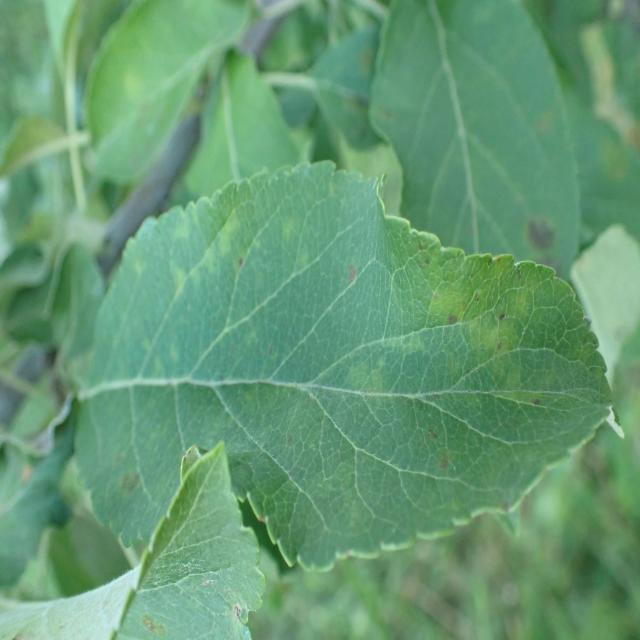scab: (200, 210, 601, 512), (86, 496, 264, 640)
